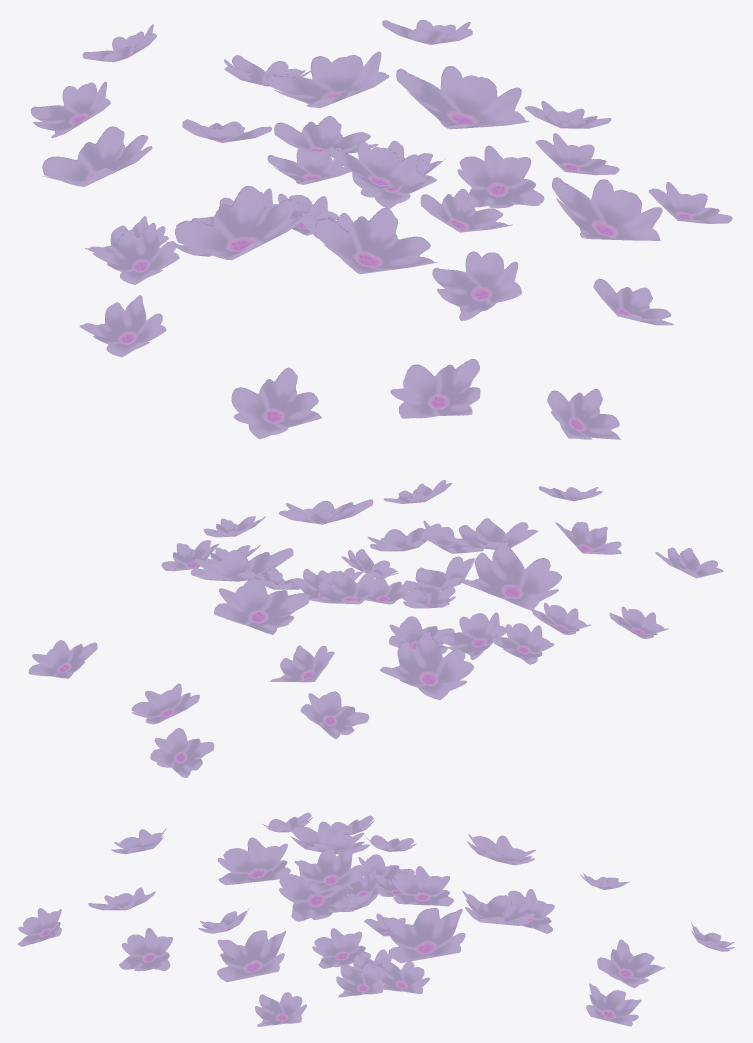
Rendered from SM_flowerpack_A_LOD0.FBX.
3 renders of one model, top to bottom at view 1: azimuth 30°, elevation 25°; view 2: azimuth 150°, elevation 25°; view 3: azimuth 270°, elevation 25°, orthographic. The views are drawn at different scales.
Parts seen in each view (by area): view 1: SM_flowerpack_A_LOD0; view 2: SM_flowerpack_A_LOD0; view 3: SM_flowerpack_A_LOD0.
Boxes of the visible parts, left/top/right/bottom form: SM_flowerpack_A_LOD0: left=30, top=20, right=732, bottom=439; SM_flowerpack_A_LOD0: left=28, top=480, right=723, bottom=777; SM_flowerpack_A_LOD0: left=18, top=812, right=734, bottom=1026.
Bounding box in the file's own units: 364 × 75.11 × 546.
Materials: 1 (1 with a texture image).
